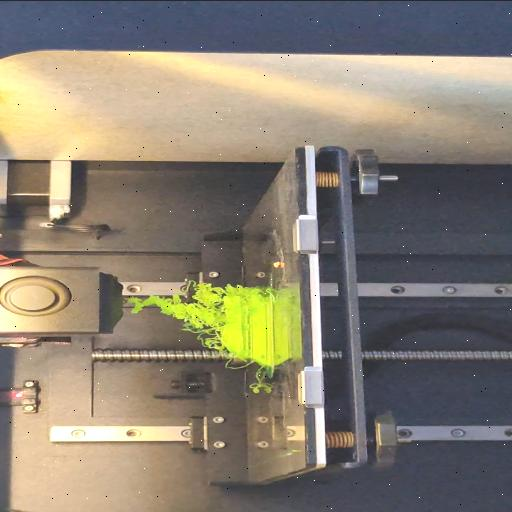spaghetti: (125, 282, 226, 348), (251, 365, 267, 395), (230, 284, 276, 294), (220, 358, 254, 368)
